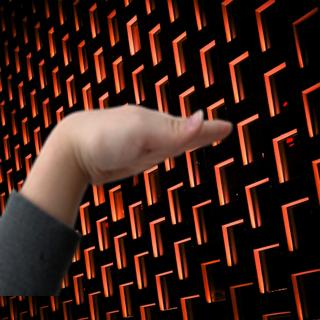Wait: (21, 99, 239, 197)
